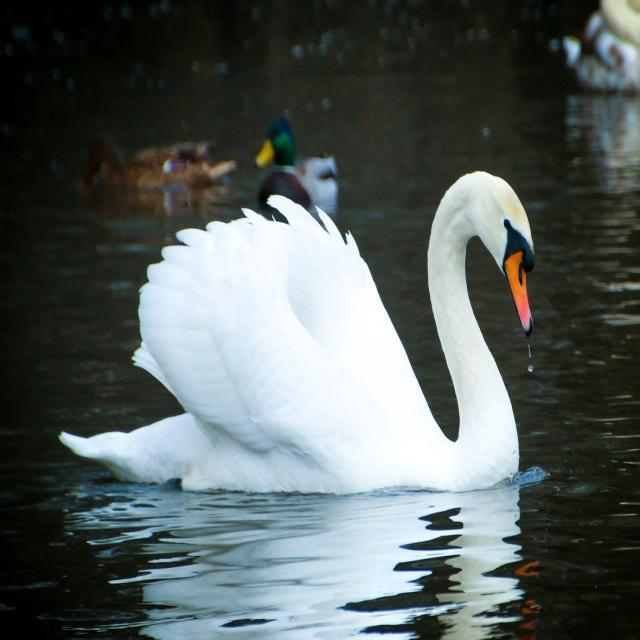swan: (60, 172, 534, 493)
